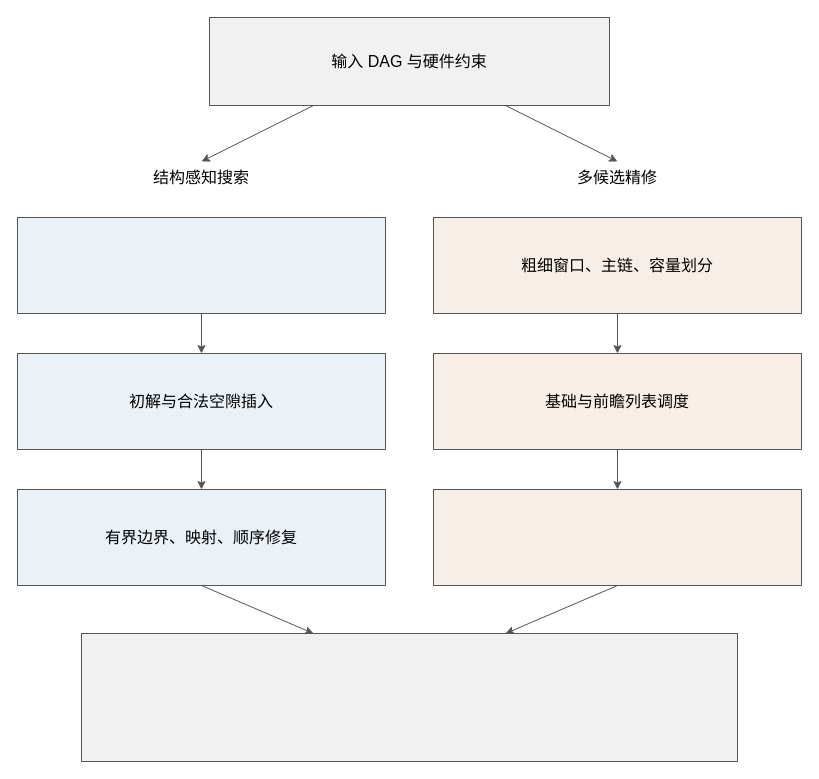
Some shapes in this 819 by 779 pixel diagram are drawn without their labels. The centre of each missing label's shape, as x and y in pixels:
五核迁移、交换与顺序精修: (617,537)
分量、共享输入与拓扑结构: (201,265)
完整候选逐一检查覆盖与无环性 官方事件仿真 → 按周期、搬运量选优: (409,697)
